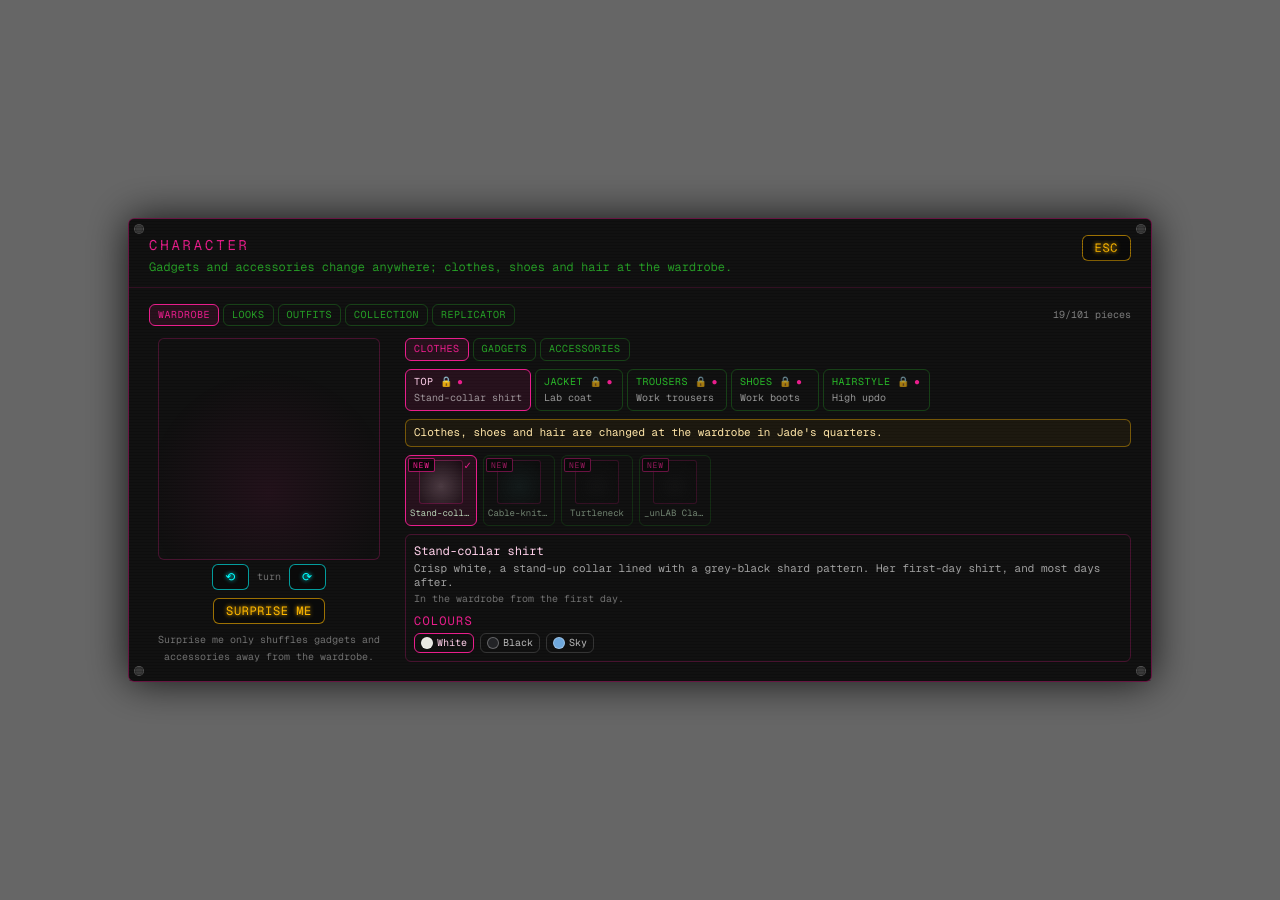
it: character menu — wardrobe › locks clothes away from the wardrobe, with the explanation
Expected: the text "changed at the wardrobe in Jade's quarters" is shown, [414,425,883,439]
Click the button "Turtleneck new" at {"x": 597, "y": 490}, box [561,455,633,526]
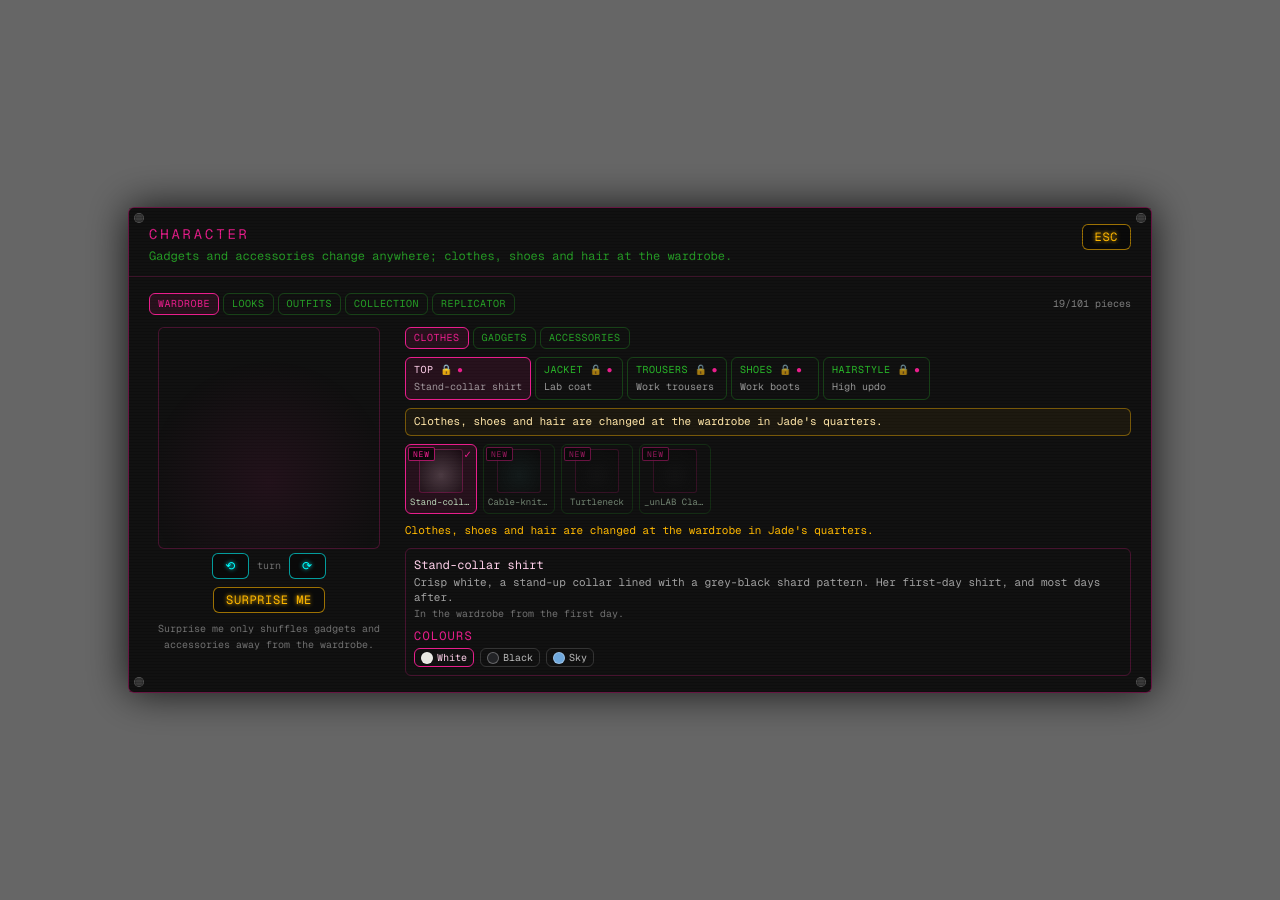
Expected: the message shows "wardrobe", [405,523,874,537]
